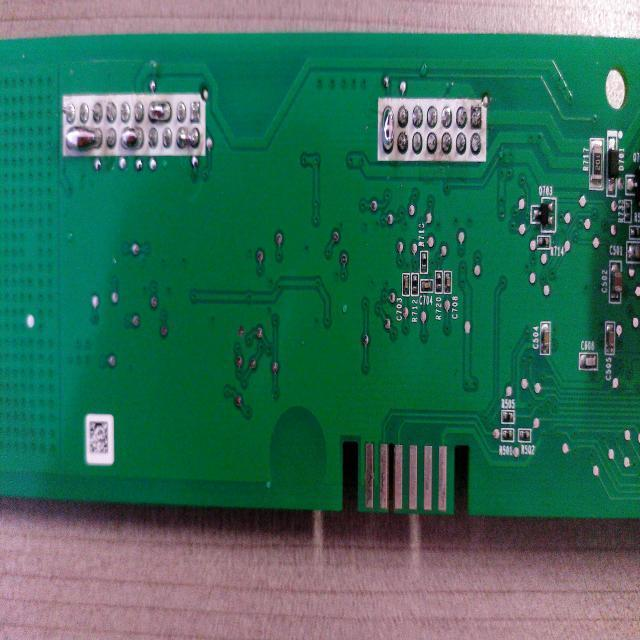Soldering shorted: (64, 124, 104, 150), (175, 125, 200, 151), (120, 126, 142, 154), (149, 98, 173, 122), (384, 102, 394, 156)
